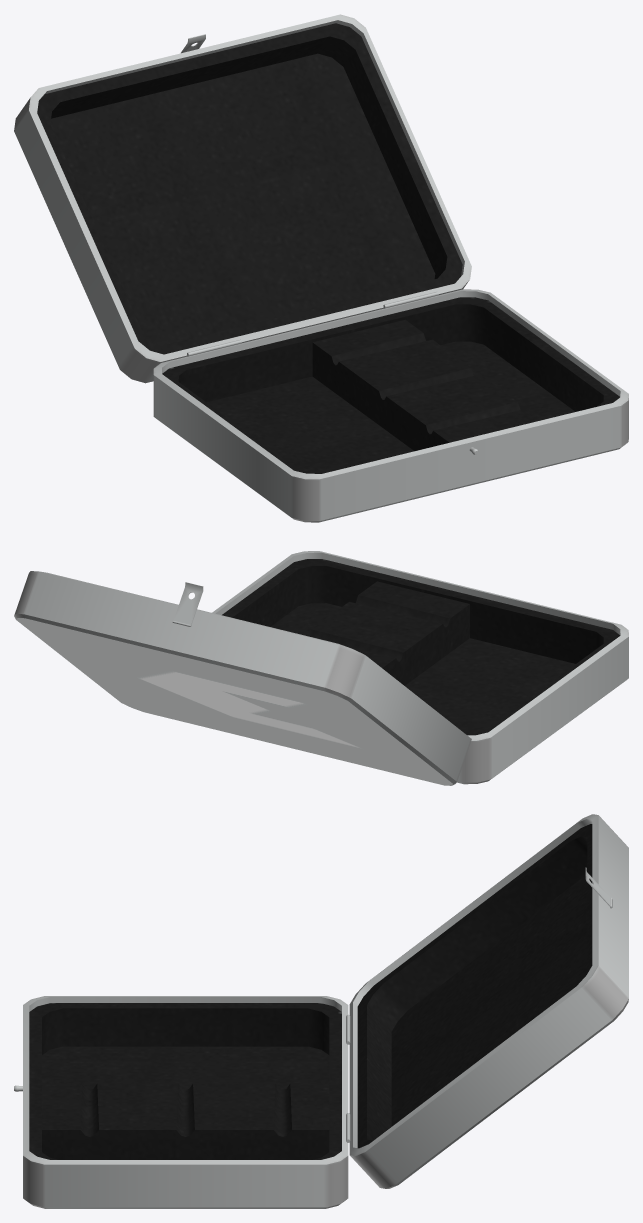
Rendered from DartCaseOpen.FBX.
3 renders of one model, top to bottom at view 1: azimuth 30°, elevation 25°; view 2: azimuth 150°, elevation 25°; view 3: azimuth 270°, elevation 25°, orthographic. The views are drawn at different scales.
Parts seen in each view (by area): view 1: DartCaseOpen; view 2: DartCaseOpen; view 3: DartCaseOpen.
Part boxes in pixels (bbox=[...]): DartCaseOpen: bbox=[14, 14, 628, 522]; DartCaseOpen: bbox=[14, 551, 628, 785]; DartCaseOpen: bbox=[14, 814, 628, 1208].
Bounding box in the file's own units: 19 × 13.41 × 29.32.
